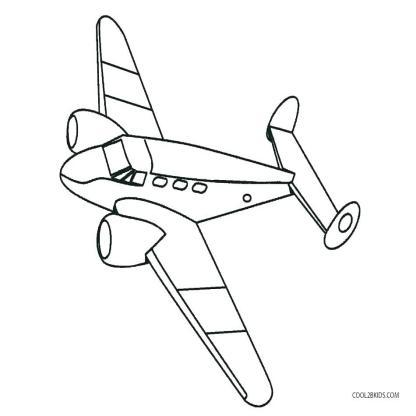CIV_Plane: (48, 11, 372, 408)
